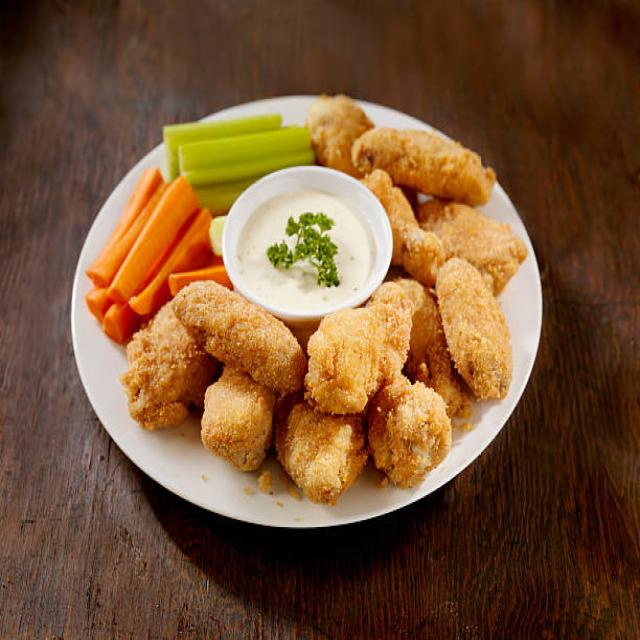Frango: (116, 92, 525, 502)
